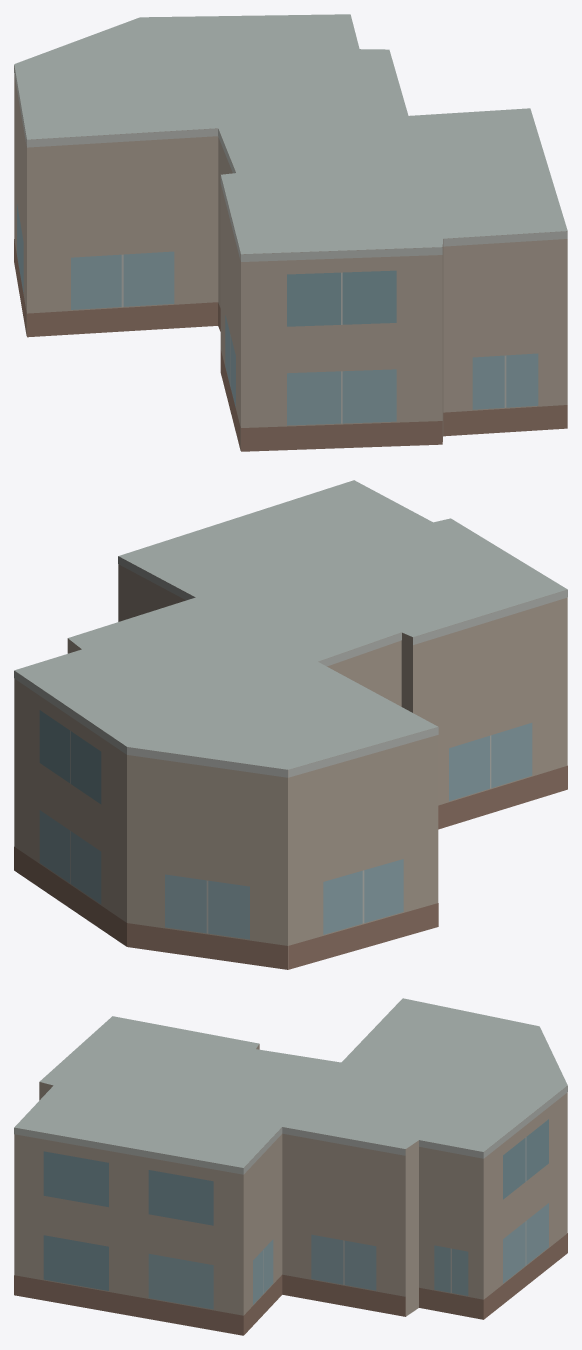
The model's file is survey-upis-32681680.glb.
3 views of the same model, one above another, from view 1: azimuth 30°, elevation 25°; view 2: azimuth 150°, elevation 25°; view 3: azimuth 270°, elevation 25° (orthographic). The views are drawn at different scales.
Parts seen in each view (by area): view 1: survey-upis-32681680.tmp; view 2: survey-upis-32681680.tmp; view 3: survey-upis-32681680.tmp.
Boxes of the visible parts, x1,y1,x2,y2 form: survey-upis-32681680.tmp: [14, 14, 567, 451]; survey-upis-32681680.tmp: [14, 480, 567, 969]; survey-upis-32681680.tmp: [14, 998, 567, 1335].
Size of the model in its own units: 13.26 by 6.1 by 18.26.
